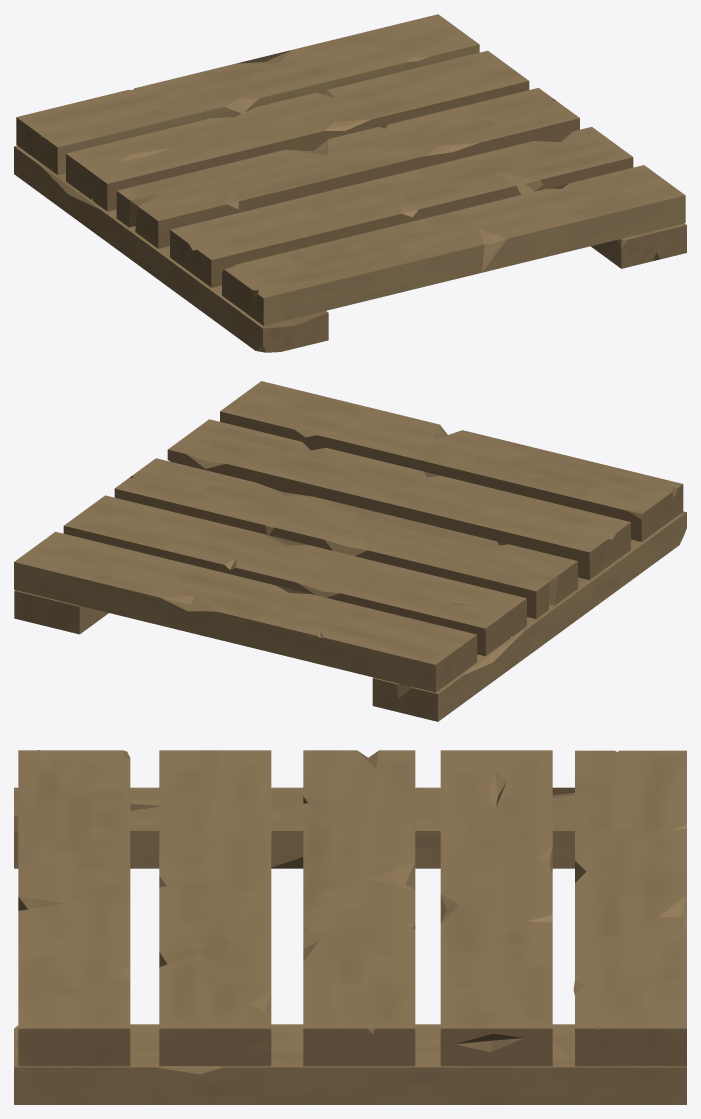
File: woodpallets_withUV.fbx
3 views of the same model, one above another, from view 1: azimuth 30°, elevation 25°; view 2: azimuth 150°, elevation 25°; view 3: azimuth 270°, elevation 25° (orthographic). The views are drawn at different scales.
Parts seen in each view (by area): view 1: Cube.001; view 2: Cube.001; view 3: Cube.001.
Part boxes in pixels (x1=…): Cube.001: x1=14, y1=14, x2=686, y2=352; Cube.001: x1=14, y1=381, x2=686, y2=721; Cube.001: x1=14, y1=750, x2=686, y2=1104.
Bounding box in the file's own units: 94.71 × 12.4 × 96.27.
